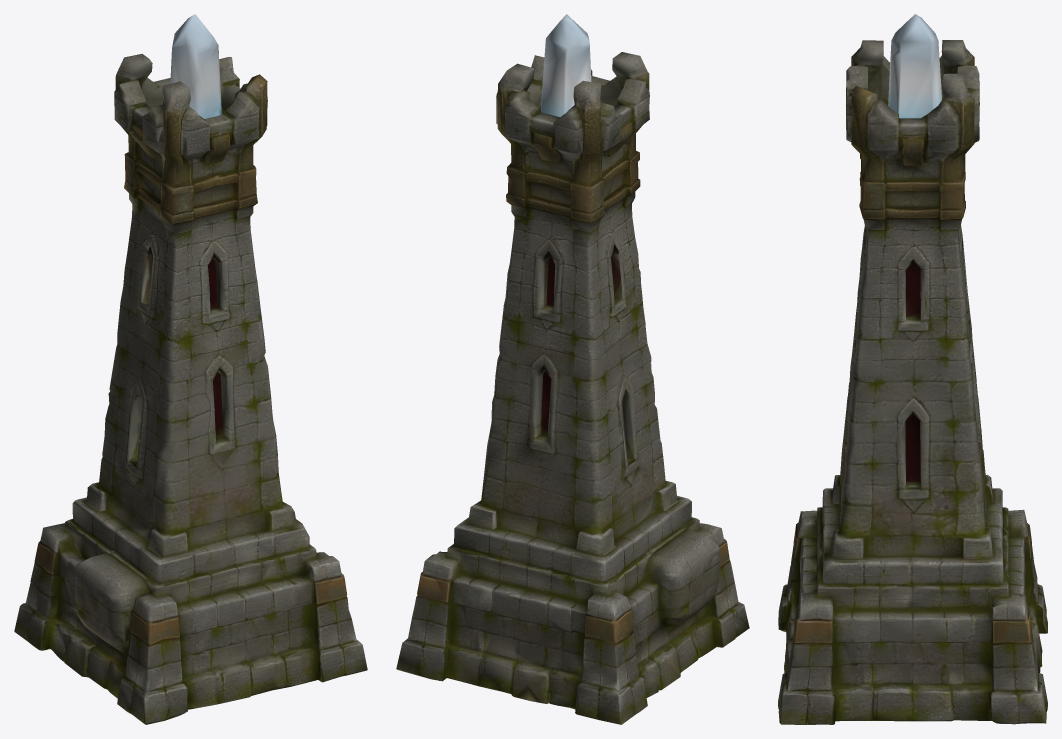
The model's file is tower.glb.
3 renders of one model, left to right at view 1: azimuth 30°, elevation 25°; view 2: azimuth 150°, elevation 25°; view 3: azimuth 270°, elevation 25°, orthographic. The views are drawn at different scales.
Visible parts, largest first — view 1: tripo_node_b4723f62-a259-468c-a036-7fe7423c45a0; view 2: tripo_node_b4723f62-a259-468c-a036-7fe7423c45a0; view 3: tripo_node_b4723f62-a259-468c-a036-7fe7423c45a0.
Boxes of the visible parts, left/top/right/bottom form: tripo_node_b4723f62-a259-468c-a036-7fe7423c45a0: left=14, top=14, right=367, bottom=724; tripo_node_b4723f62-a259-468c-a036-7fe7423c45a0: left=396, top=14, right=749, bottom=724; tripo_node_b4723f62-a259-468c-a036-7fe7423c45a0: left=778, top=14, right=1047, bottom=724.
Bounding box in the file's own units: 0.3728 × 1 × 0.3722.
Materials: 1 (1 with a texture image).
